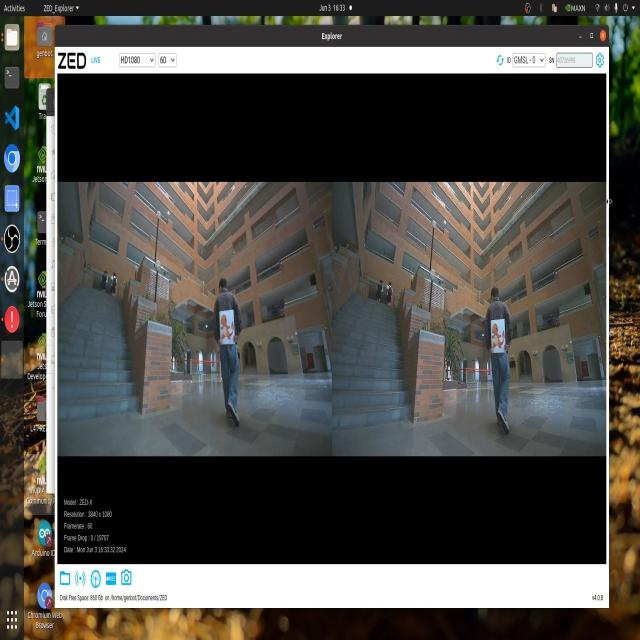red: (490, 321, 515, 356), (217, 307, 236, 342)
